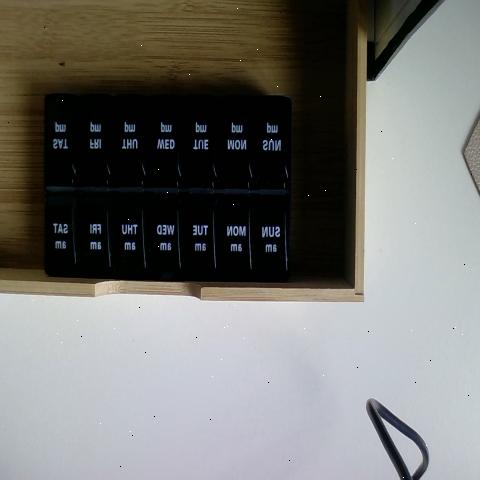FRI-am: (77, 185, 110, 272)
FRI-pm: (78, 85, 112, 181)
MON-am: (216, 189, 252, 281)
MON-pm: (214, 91, 252, 190)
SAT-am: (40, 190, 76, 276)
SAT-pm: (40, 91, 78, 184)
SUN-am: (252, 193, 286, 276)
SUN-pm: (252, 98, 287, 182)
THU-am: (107, 186, 146, 276)
THU-pm: (105, 89, 145, 183)
TUE-am: (177, 193, 214, 278)
TUE-pm: (176, 92, 213, 193)
WED-am: (146, 192, 180, 280)
WED-pm: (143, 92, 178, 190)
